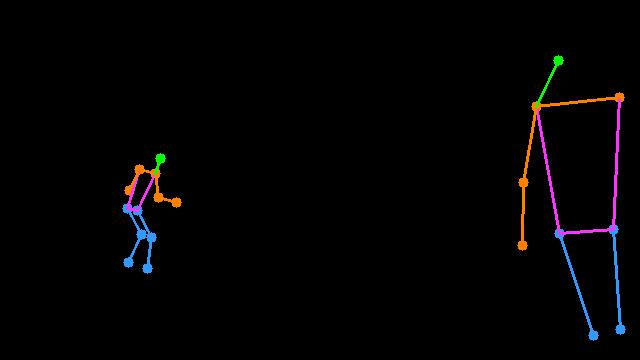normal: (102, 144, 189, 282)
